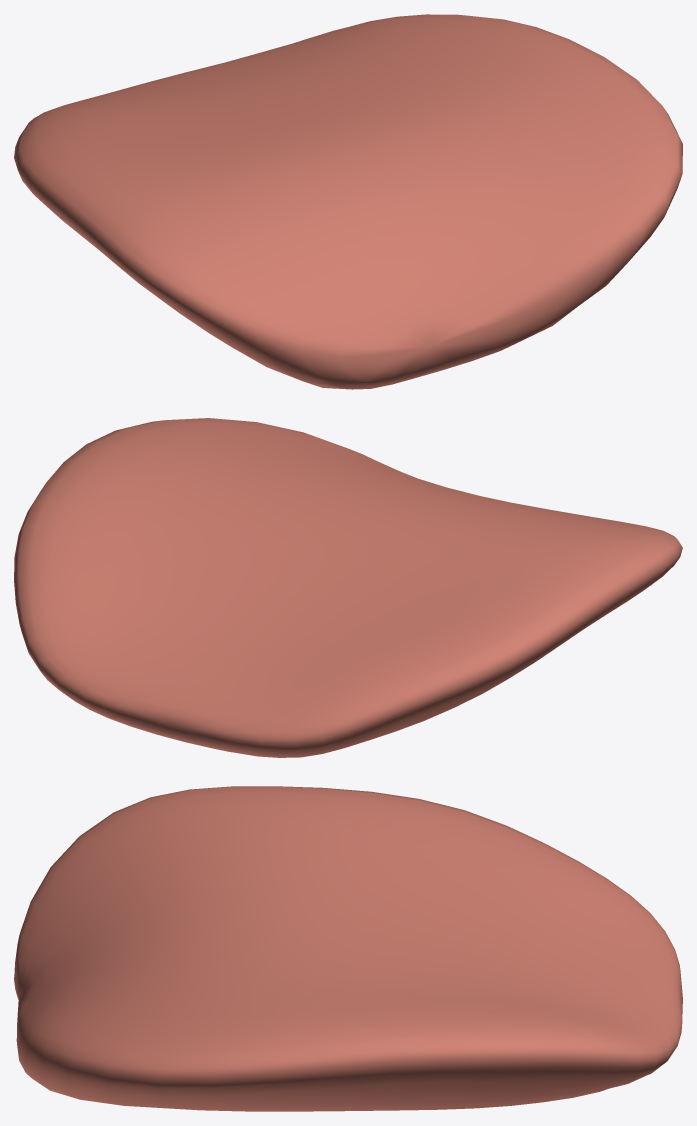
3 renders of one model, top to bottom at view 1: azimuth 30°, elevation 25°; view 2: azimuth 150°, elevation 25°; view 3: azimuth 270°, elevation 25°, orthographic. The views are drawn at different scales.
Visible parts, largest first — view 1: 左侧髌下皮下囊; view 2: 左侧髌下皮下囊; view 3: 左侧髌下皮下囊.
Part boxes in pixels (box(x1,y1,x2,y2)): 左侧髌下皮下囊: box(14, 14, 682, 389); 左侧髌下皮下囊: box(14, 418, 682, 757); 左侧髌下皮下囊: box(14, 786, 682, 1111).
Size of the model in its own units: 0.0348 by 0.00954 by 0.0341.
